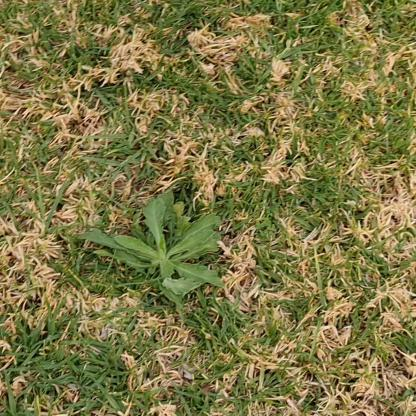Weeds: (77, 192, 224, 305)
